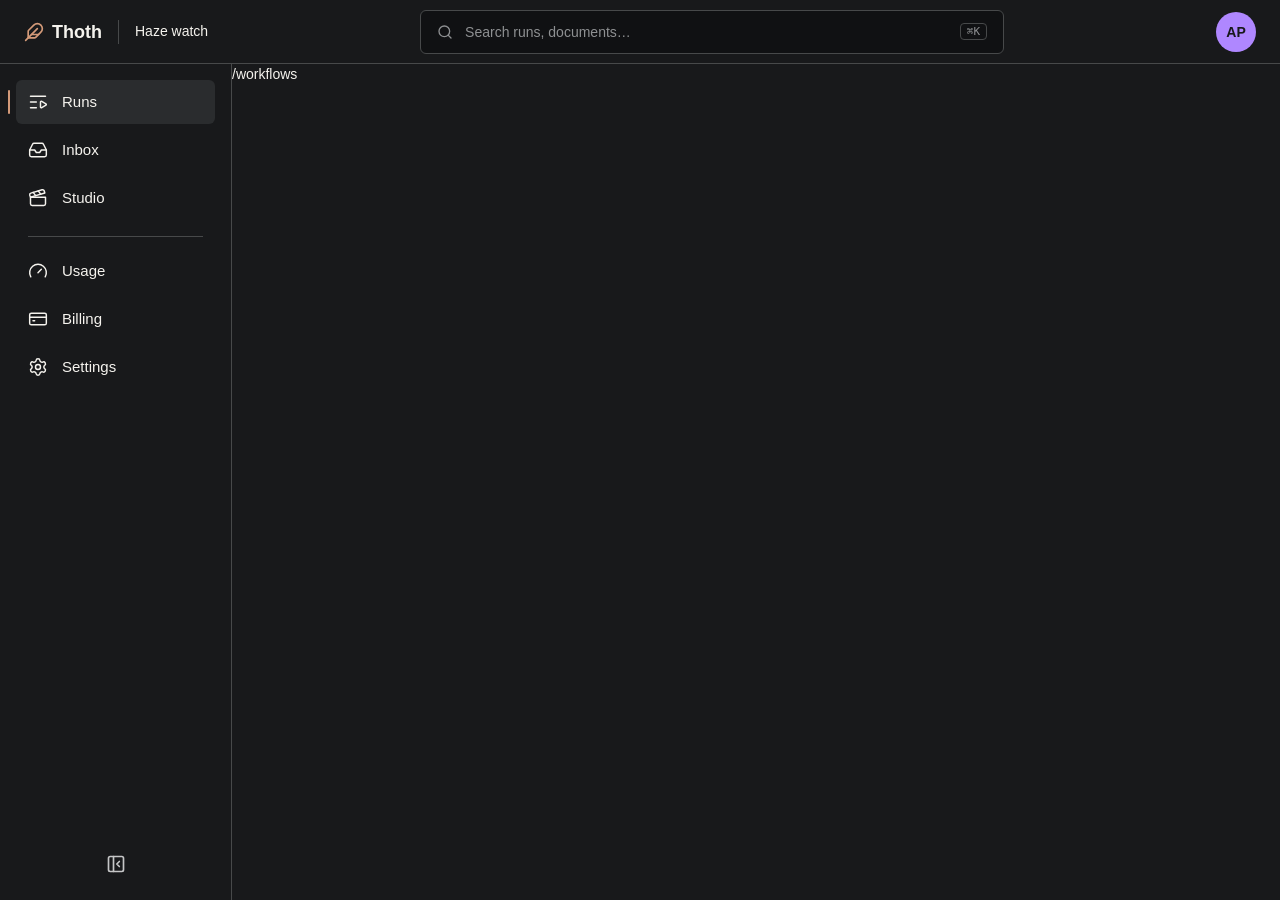
Test case: the collapsed sidebar keeps every page reachable by name, and remembers itself
The width and height of the screenshot is (1280, 900).
What coordinates should you click on to do the following:
click the button named "Collapse the sidebar"
I would click on:
 (116, 864)
Its box is x1=16 y1=844 x2=215 y2=884.
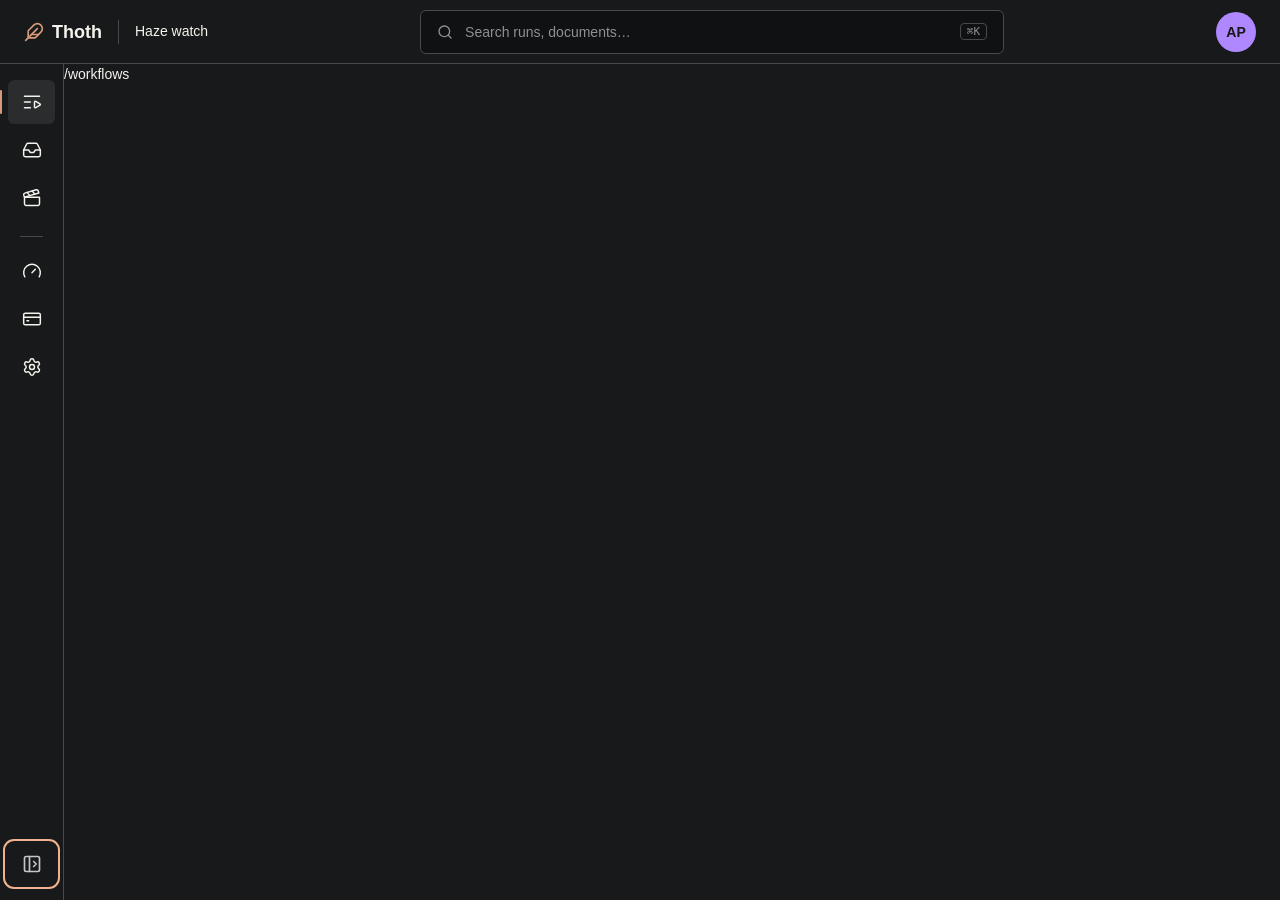
Expected: the button named "Expand the sidebar" is shown, x1=8 y1=844 x2=55 y2=884
